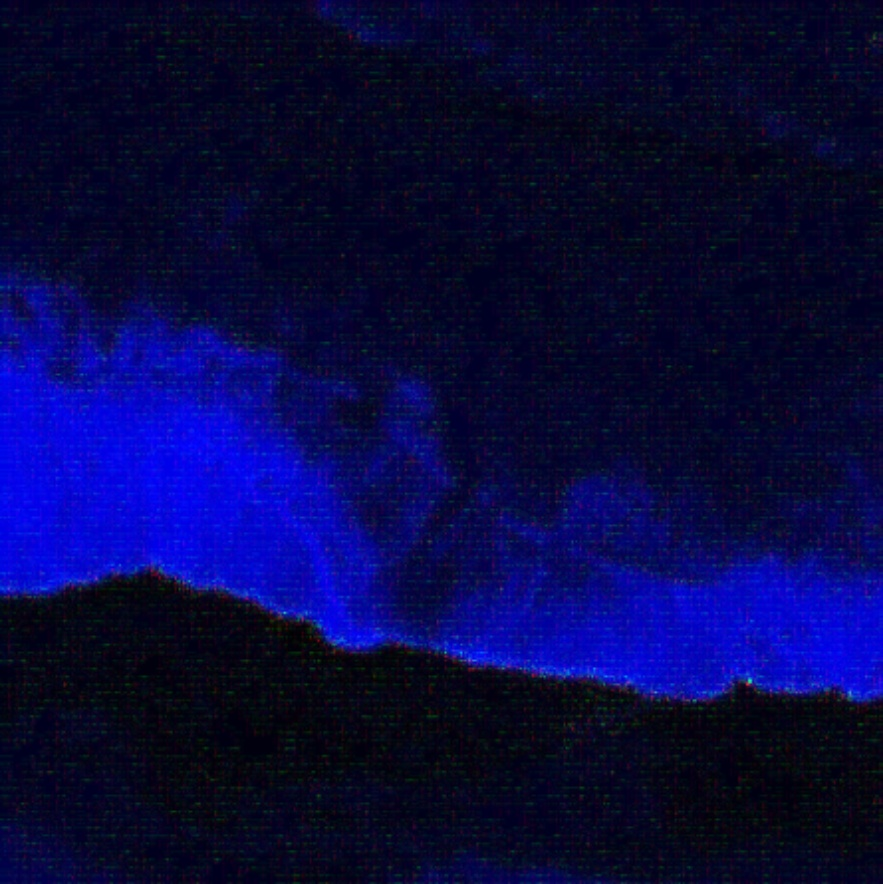rip_current: (330, 383, 569, 641)
